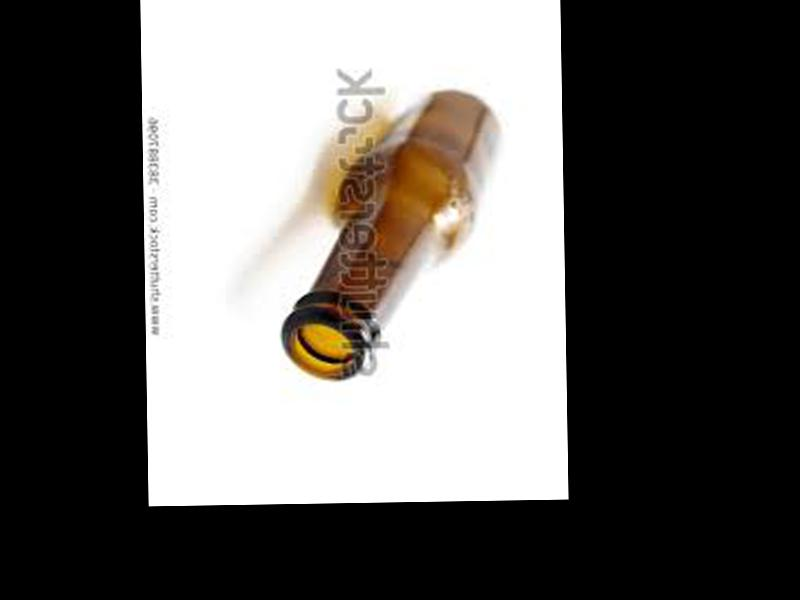Beer: (275, 88, 503, 382)
